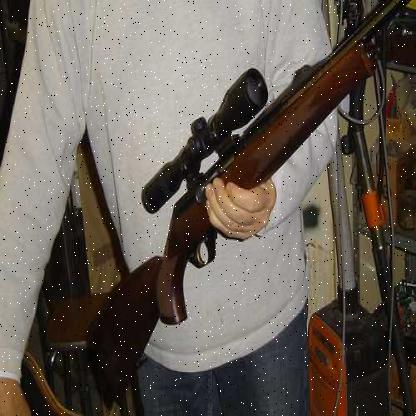rifle: (86, 5, 415, 410)
